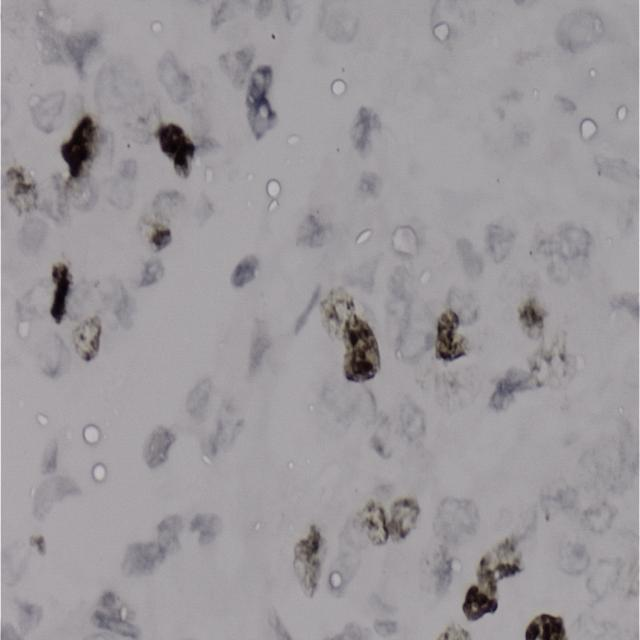Healthy cell: (1, 0, 66, 66), (80, 260, 134, 334), (312, 380, 390, 430), (388, 299, 432, 364), (532, 486, 581, 543), (589, 438, 640, 492), (556, 2, 605, 57), (430, 495, 491, 537), (93, 54, 148, 100), (340, 107, 387, 150), (316, 0, 358, 48), (28, 83, 64, 135), (555, 220, 590, 273), (522, 233, 560, 280), (160, 58, 200, 102), (393, 392, 428, 442), (93, 184, 137, 222), (123, 540, 167, 578), (350, 163, 390, 203), (607, 275, 640, 323), (577, 498, 613, 542), (555, 533, 590, 578), (12, 212, 52, 251), (604, 531, 640, 572), (601, 151, 640, 188), (38, 328, 66, 378), (205, 0, 245, 33), (13, 282, 41, 329), (253, 0, 294, 32), (584, 567, 616, 608), (70, 26, 101, 68), (189, 513, 221, 551), (184, 376, 212, 419), (152, 512, 182, 552), (487, 226, 517, 266), (452, 277, 479, 321), (453, 240, 484, 278), (222, 39, 250, 81), (365, 426, 390, 470), (390, 260, 421, 295), (33, 443, 65, 475), (157, 186, 189, 217), (138, 260, 170, 286), (324, 619, 362, 640), (110, 162, 142, 186), (369, 616, 397, 640)
cancer-cell-QiJm: (488, 340, 576, 398), (336, 313, 386, 379), (426, 530, 471, 600), (88, 584, 142, 640), (200, 400, 248, 456), (48, 162, 94, 217), (59, 103, 100, 164), (474, 536, 524, 585), (298, 514, 328, 592), (317, 284, 358, 340), (158, 122, 198, 177), (293, 203, 339, 250), (1, 591, 43, 640), (3, 162, 41, 214), (433, 308, 474, 356), (513, 290, 549, 340), (237, 98, 281, 138), (130, 98, 171, 140), (139, 423, 175, 469), (72, 313, 105, 363), (384, 490, 418, 537), (350, 496, 381, 547), (50, 259, 73, 321), (457, 584, 499, 616), (243, 62, 274, 103), (526, 614, 572, 640), (13, 523, 49, 555), (142, 216, 173, 248), (230, 253, 256, 289), (436, 620, 474, 640)
